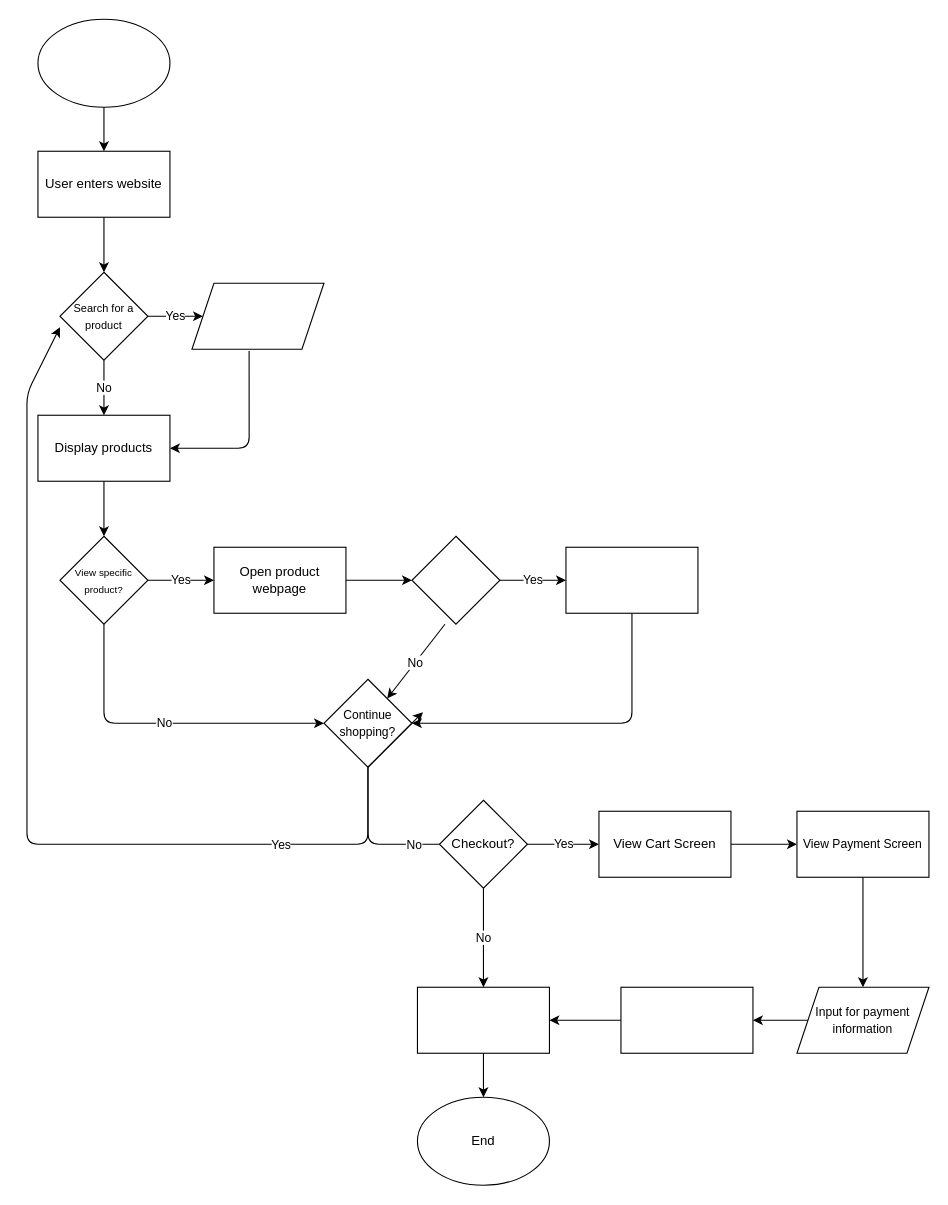
Some shapes in this 948 by 1205 pixel diagram are drawn without their labels. The centre of each missing label's shape, as x and y in pixels:
"Add product to cart?" belongs at point (455, 579).
"Added to cart confirmation" belongs at point (631, 579).
"Input to search" belongs at point (257, 315).
"Order confirmatiol and send email" belongs at point (686, 1019).
"Start" belongs at point (103, 62).
"User leaves website" belongs at point (482, 1019).
